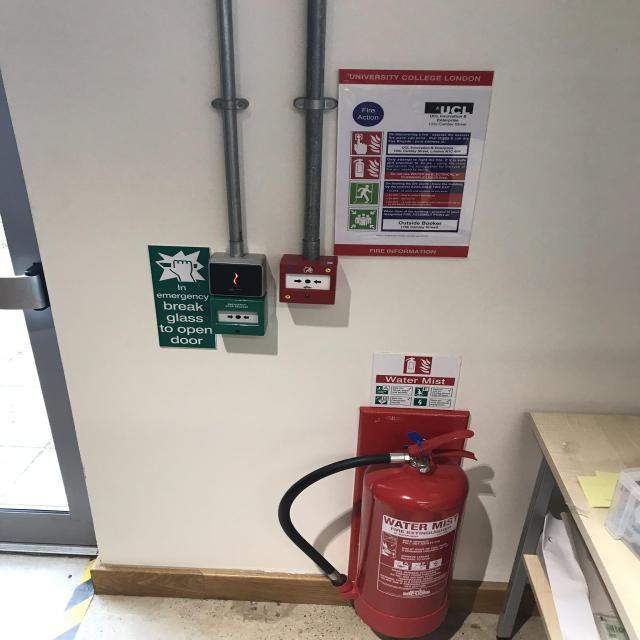fire_extinguisher: (275, 424, 485, 640)
